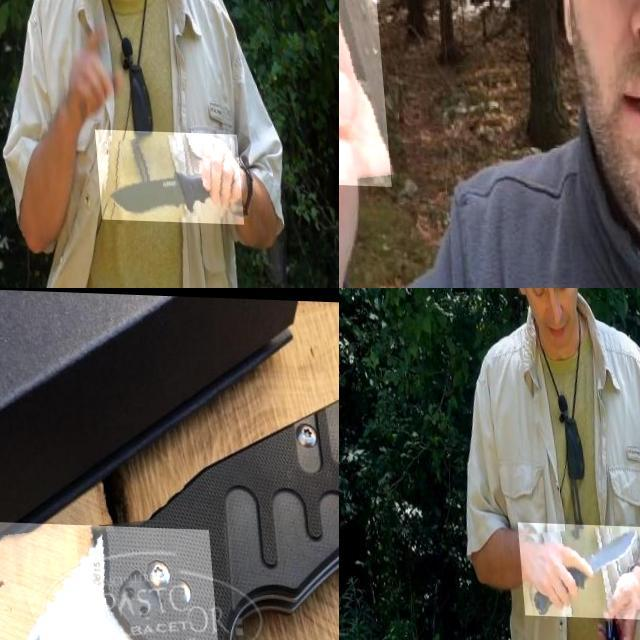-: (0, 516, 229, 640), (339, 0, 445, 265), (88, 126, 235, 222), (512, 519, 640, 616)
